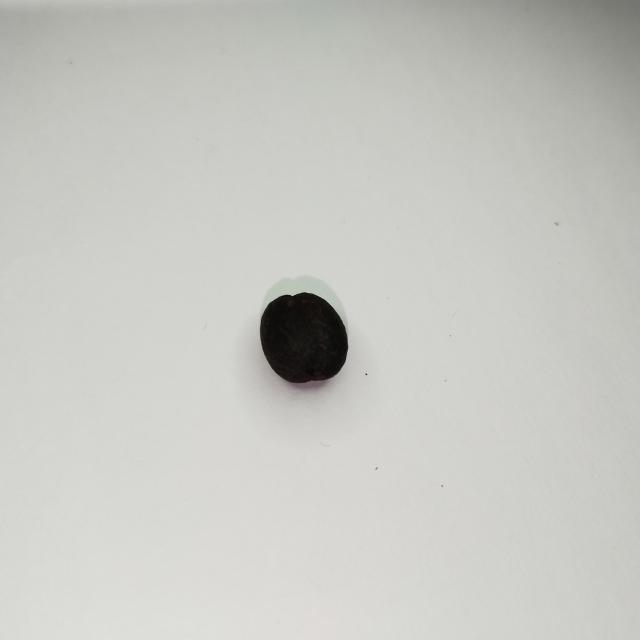Danado: (260, 292, 350, 388)
